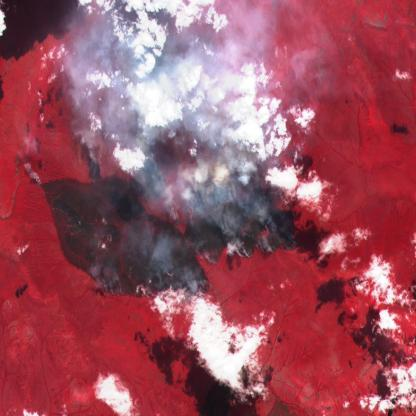fire: (34, 147, 302, 311)
